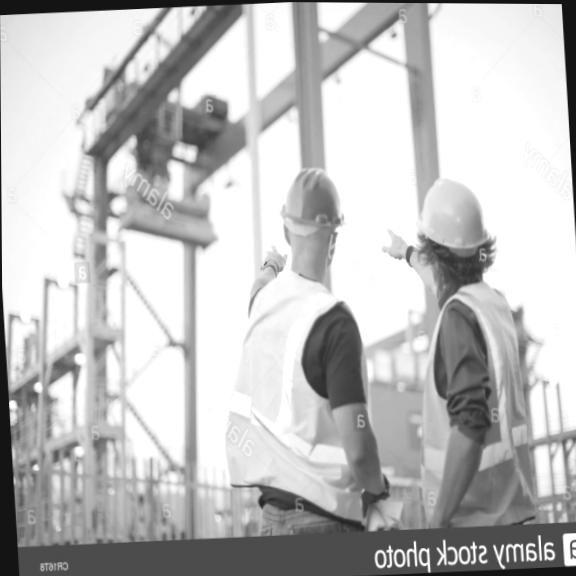safety_vest: (396, 275, 535, 534), (217, 267, 359, 514)
